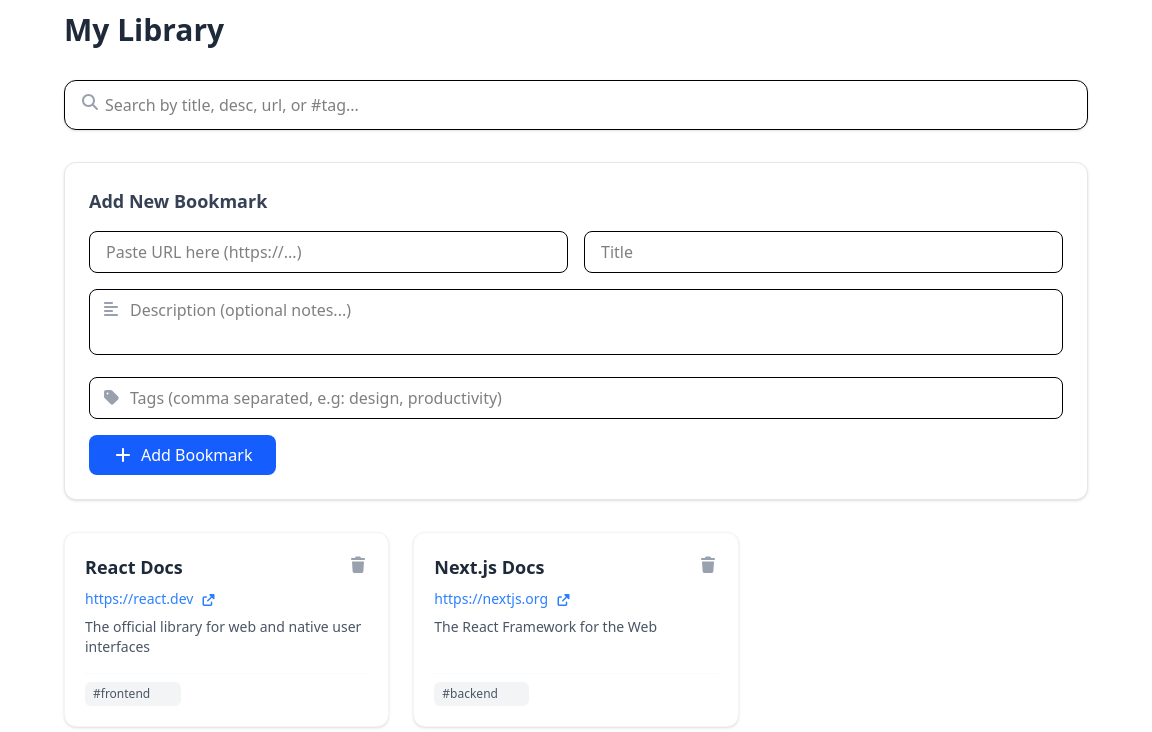
Test: BookmarksPage › deletes a bookmark after confirmation
Expected: the heading "React Docs" is shown, [85, 553, 183, 581]
Click the button without text in the row of "React Docs": (358, 565) [348, 553, 368, 577]
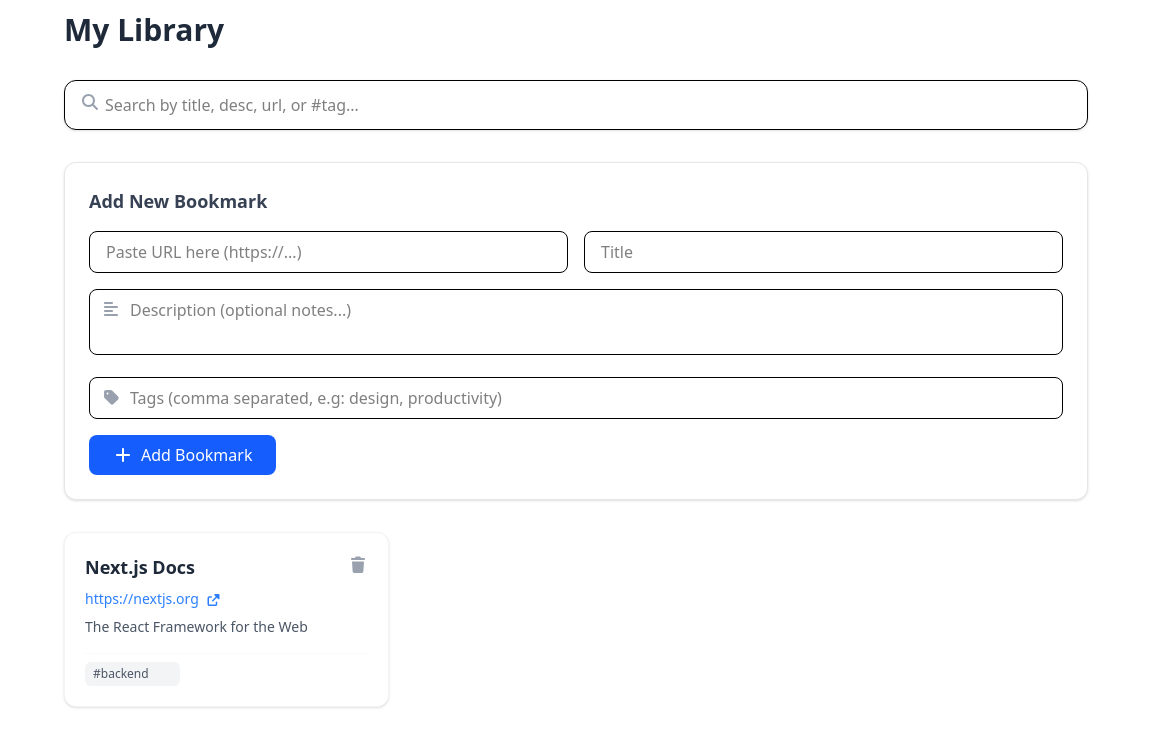
Now the heading "React Docs" is gone
